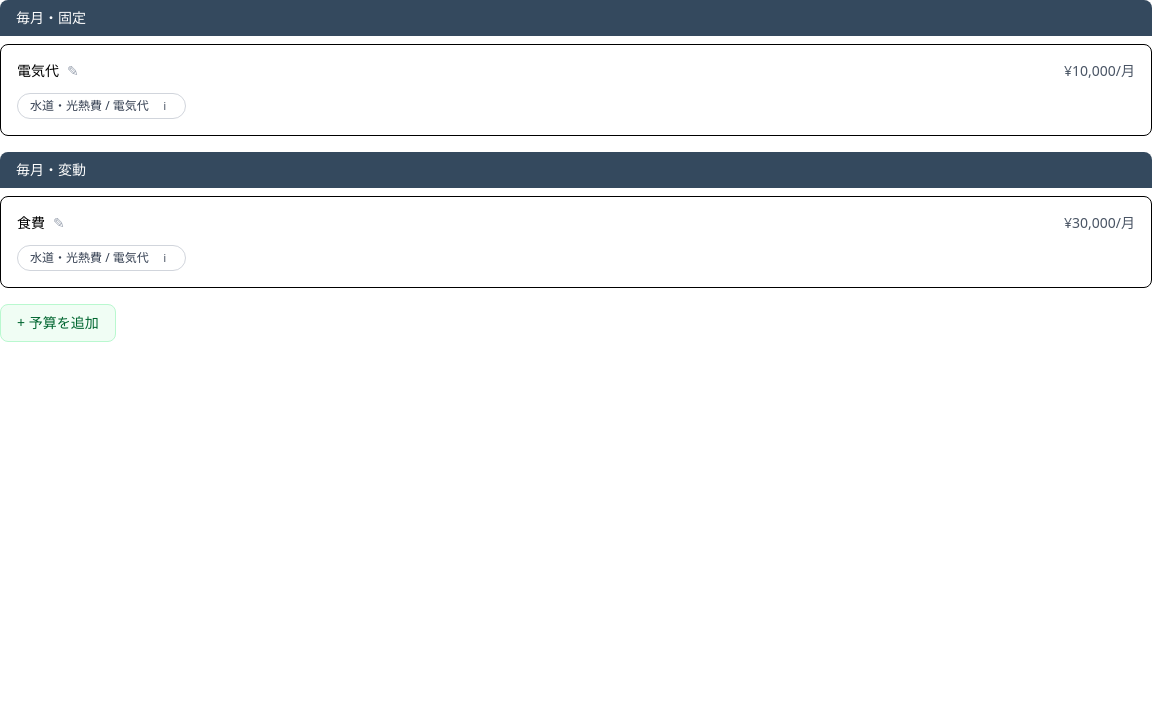
Test: MappingPanel › 「予算を追加」クリックでモーダルが開く
Click the button "+ 予算を追加". click: [58, 323]
box: [0,304,116,342]
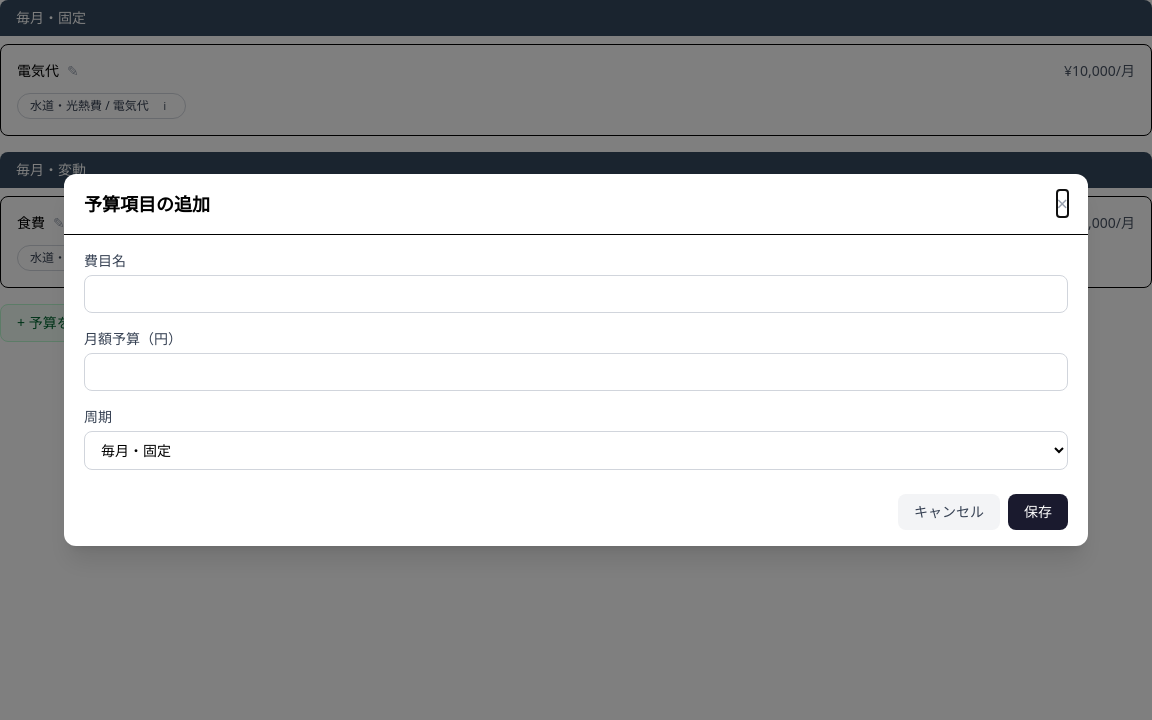
Check: the heading "予算項目の追加" is shown, box [84,190,210,218]
